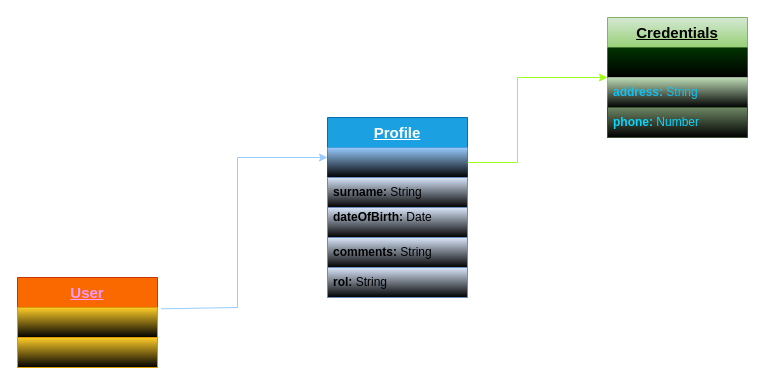
Image size: 765x385. Some labels were removed from this diagram. Each missing label, with the centre of its shape:
email: String: the point at 677,62
login: String: the point at 87,322
name: String: the point at 397,162
password: String: the point at 87,352
